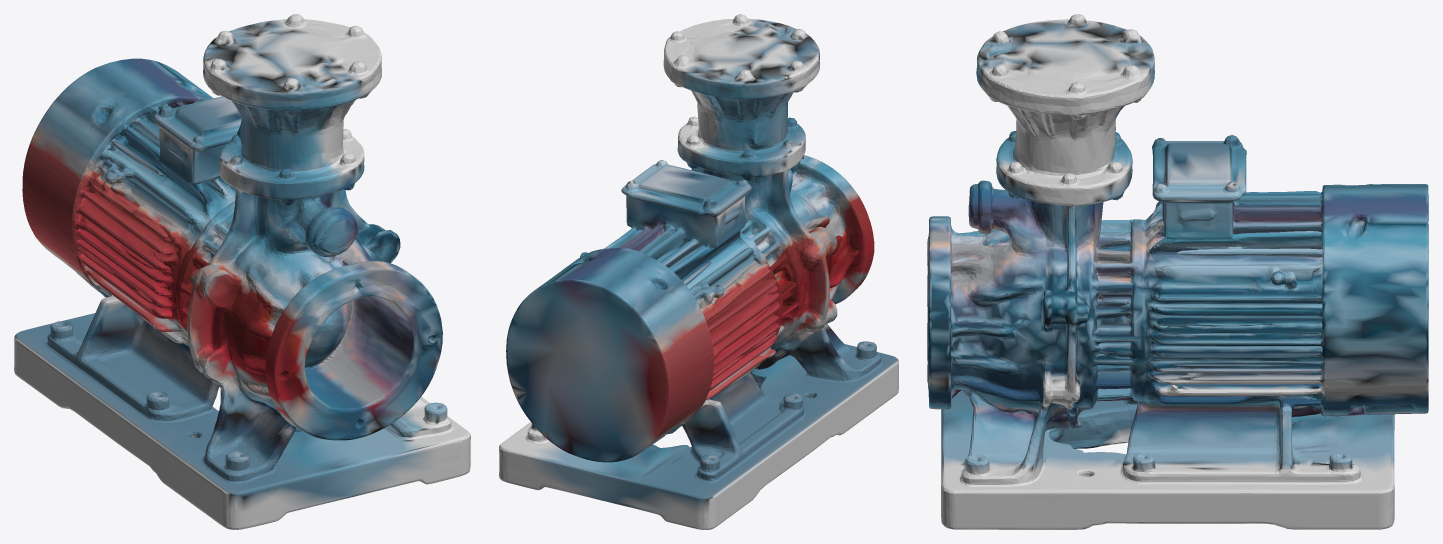
File: machine.glb
3 views of the same model, side by side, from view 1: azimuth 30°, elevation 25°; view 2: azimuth 150°, elevation 25°; view 3: azimuth 270°, elevation 25° (orthographic). The views are drawn at different scales.
Parts seen in each view (by area): view 1: tmp74l_oo7m.ply; view 2: tmp74l_oo7m.ply; view 3: tmp74l_oo7m.ply.
Part boxes in pixels (x1=…): tmp74l_oo7m.ply: x1=14, y1=14, x2=470, y2=529; tmp74l_oo7m.ply: x1=499, y1=14, x2=898, y2=529; tmp74l_oo7m.ply: x1=927, y1=14, x2=1428, y2=529.
Bounding box in the file's own units: 1.15 × 1.85 × 1.99.
